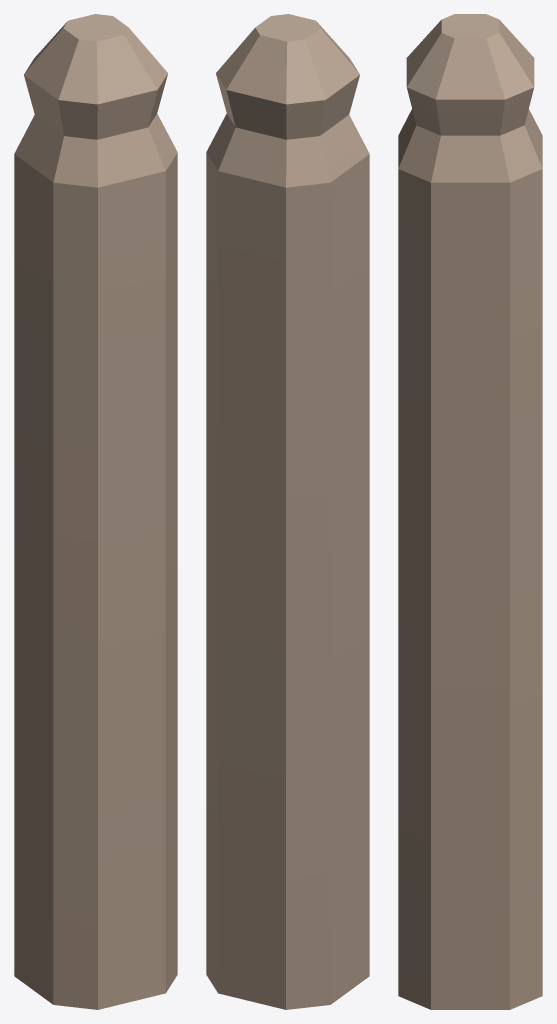
Rendered from Stolb.fbx.
3 renders of one model, left to right at view 1: azimuth 30°, elevation 25°; view 2: azimuth 150°, elevation 25°; view 3: azimuth 270°, elevation 25°, orthographic.
Visible parts, largest first — view 1: Cube.014; view 2: Cube.014; view 3: Cube.014.
Part boxes in pixels (<box>): Cube.014: <box>14,14,177,1009</box>; Cube.014: <box>206,14,369,1009</box>; Cube.014: <box>398,14,542,1009</box>.
Bounding box in the file's own units: 16.34 × 119 × 16.34.
